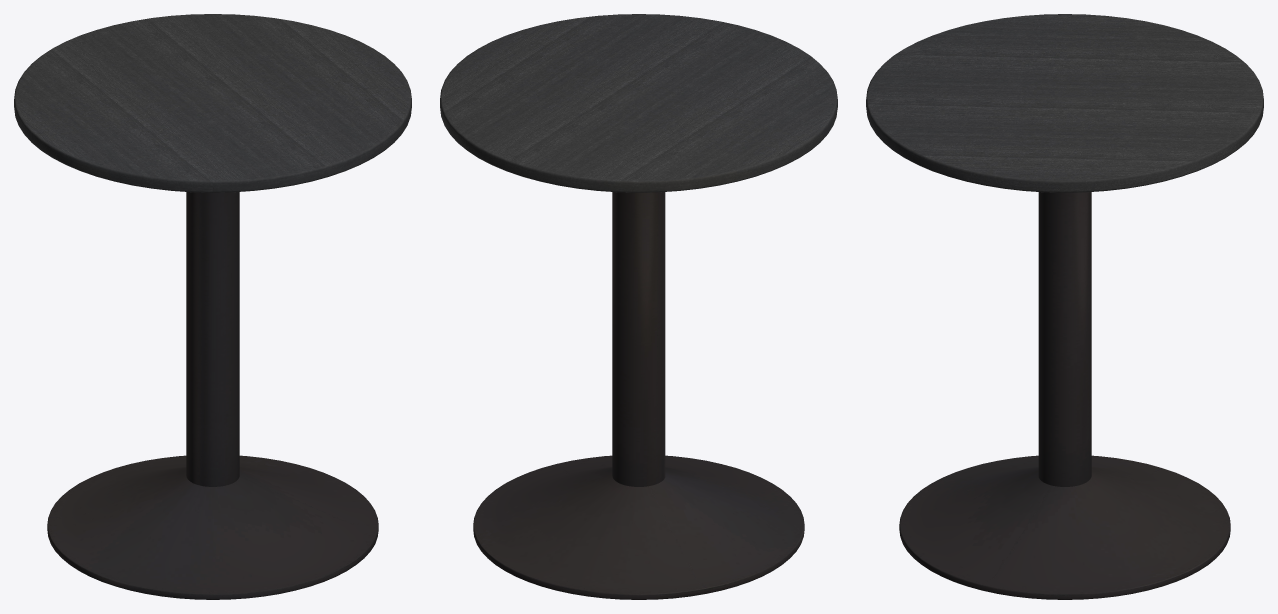
File: fermo_70_schwarz_70_glass_laquered_metal.glb
The picture shows the model from 3 angles, left to right: view 1: azimuth 30°, elevation 25°; view 2: azimuth 150°, elevation 25°; view 3: azimuth 270°, elevation 25°; orthographic projection.
Parts seen in each view (by area): view 1: fermo_70_schwarz_o60-black; view 2: fermo_70_schwarz_o60-black; view 3: fermo_70_schwarz_o60-black.
Boxes of the visible parts, bbox=[...] form: fermo_70_schwarz_o60-black: bbox=[14, 14, 411, 599]; fermo_70_schwarz_o60-black: bbox=[440, 14, 837, 599]; fermo_70_schwarz_o60-black: bbox=[866, 14, 1263, 599].
Bounding box in the file's own units: 0.5998 × 0.7206 × 0.5998.
Materials: 1 (1 with a texture image).
